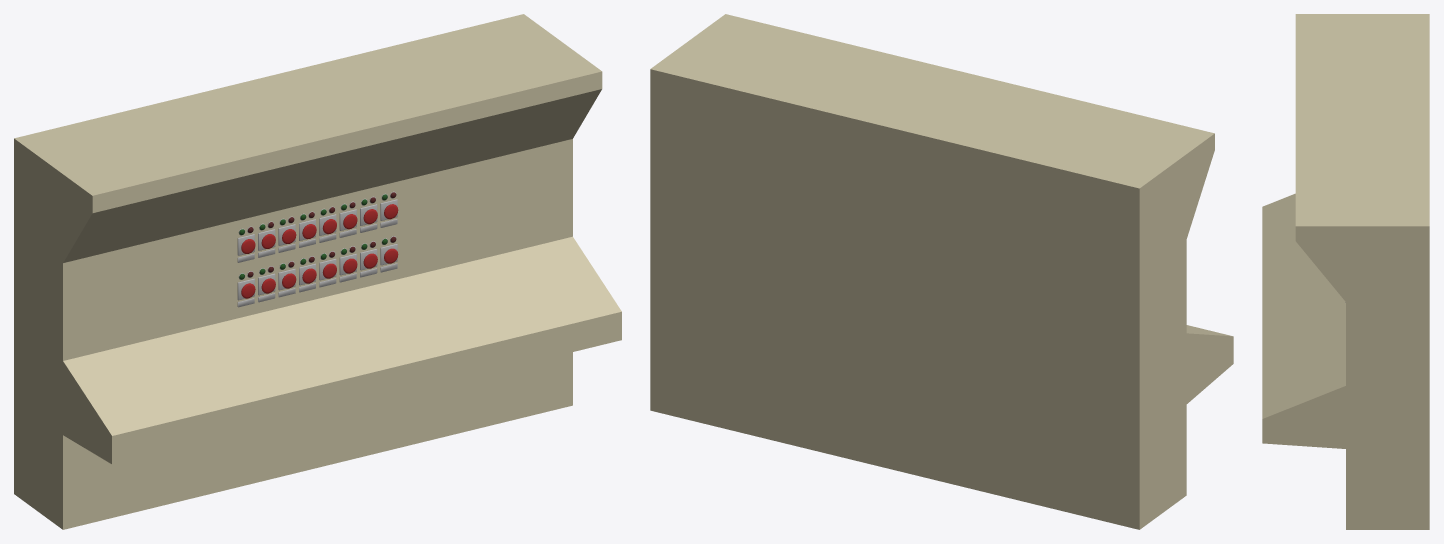
The model's file is v06_control_panel.glb.
3 views of the same model, side by side, from view 1: azimuth 30°, elevation 25°; view 2: azimuth 150°, elevation 25°; view 3: azimuth 270°, elevation 25° (orthographic). The views are drawn at different scales.
Parts seen in each view (by area): view 1: controlpanel; view 2: controlpanel; view 3: controlpanel.
Boxes of the visible parts, x1,y1,x2,y2 form: controlpanel: [14, 14, 621, 529]; controlpanel: [650, 14, 1233, 529]; controlpanel: [1262, 14, 1429, 529].
Bounding box in the file's own units: 3 × 2 × 1.
